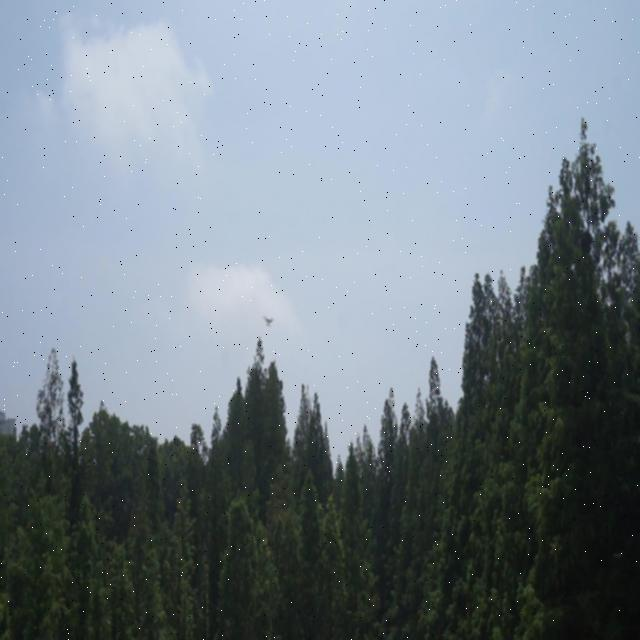UAV: (264, 316, 275, 328)
